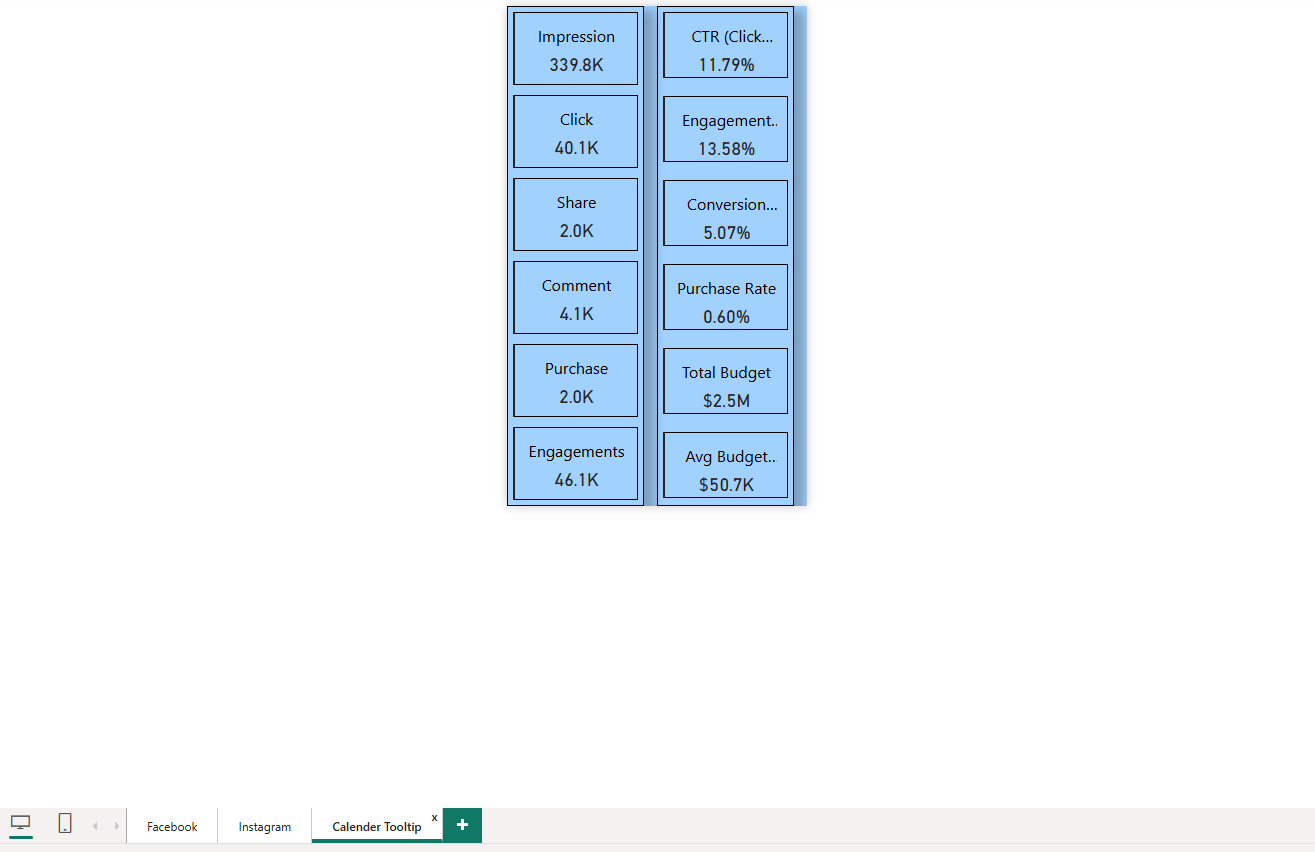

This screenshot's page, from the dashboard's own definition file:
{"tool":"powerbi","page":{"name":"Calender Tooltip","canvas":[300,500],"ordinal":2},"visuals":[{"type":"cardVisual","fields":{"Data":["ad_events.Impression","ad_events.Click","ad_events.Share","ad_events.Comment","ad_events.Purchase","ad_events.Engagements"]},"box":[0,0,137,500],"z":0},{"type":"cardVisual","fields":{"Data":["ad_events.CTR (Click Through Rate)","ad_events.Engagement Rate","ad_events.Conversion Rate","ad_events.Purchase Rate","ad_events.Total Budget","ad_events.Avg Budget Per Campaign"]},"box":[150,0,137,500],"z":1000}]}

Visuals, with their boxes on the page's 300x500 design canvas (x1, y1, x2, y2). These are canvas units, not pixel positions in the 1315x852 screenshot, which may show the page scaled, cropped or inside an application window:
cardVisual - ad_events.Impression x ad_events.Click: BBox(0, 0, 137, 500)
cardVisual - ad_events.CTR (Click Through Rate) x ad_events.Engagement Rate: BBox(150, 0, 287, 500)
